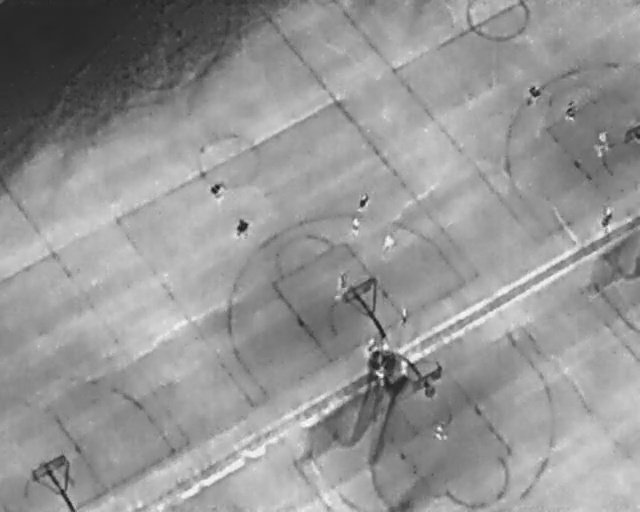Person: (593, 129, 613, 159), (598, 205, 616, 232), (378, 232, 398, 256), (206, 180, 228, 201), (353, 189, 372, 213), (234, 216, 250, 238), (562, 100, 578, 122), (526, 83, 544, 100), (433, 423, 449, 441), (349, 216, 362, 238), (398, 305, 410, 328), (366, 337, 378, 357)
